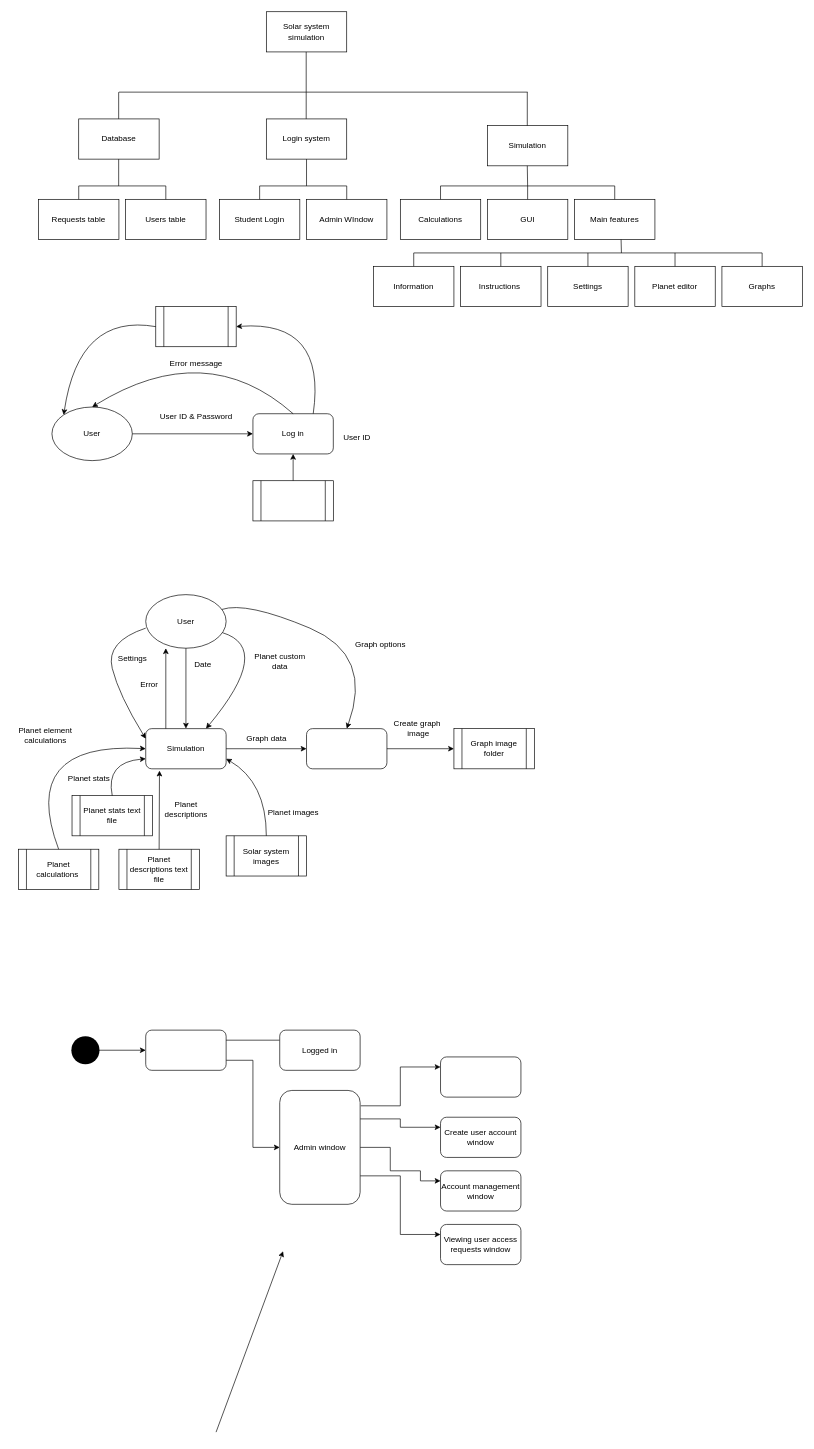
The diagram is 814 pixels wide and 1449 high, and some of its shapes have lost their labels. Each missing label, with the box of its shape:
Add to user access requests database: (155, 306, 236, 347)
Create / update graphs: (306, 728, 387, 769)
Logging In: (145, 1029, 226, 1070)
User database: (252, 480, 333, 521)
